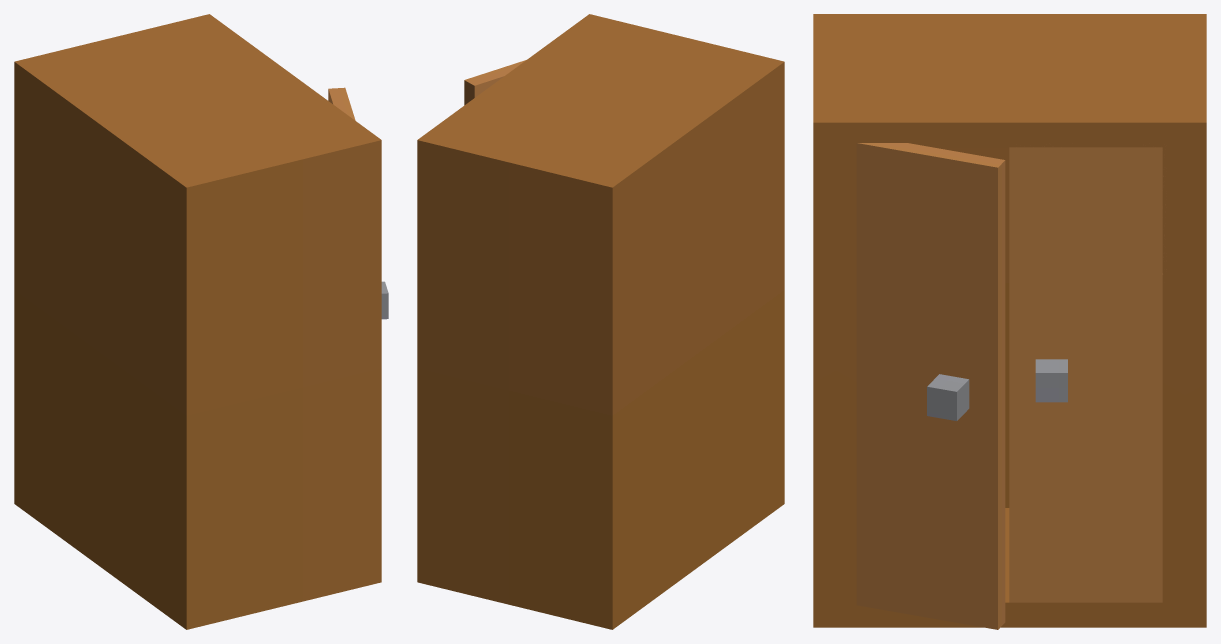
Rendered from Wardrobe.fbx.
3 views of the same model, side by side, from view 1: azimuth 30°, elevation 25°; view 2: azimuth 150°, elevation 25°; view 3: azimuth 270°, elevation 25° (orthographic). The views are drawn at different scales.
Visible parts, largest first — view 1: Wardrobe; view 2: Wardrobe; view 3: Wardrobe.
Part boxes in pixels (x1,y1,x2,y2): Wardrobe: [14, 14, 388, 629]; Wardrobe: [417, 14, 784, 629]; Wardrobe: [813, 14, 1206, 629].
Bounding box in the file's own units: 268 × 433 × 306.
5 materials, 5 textured.
